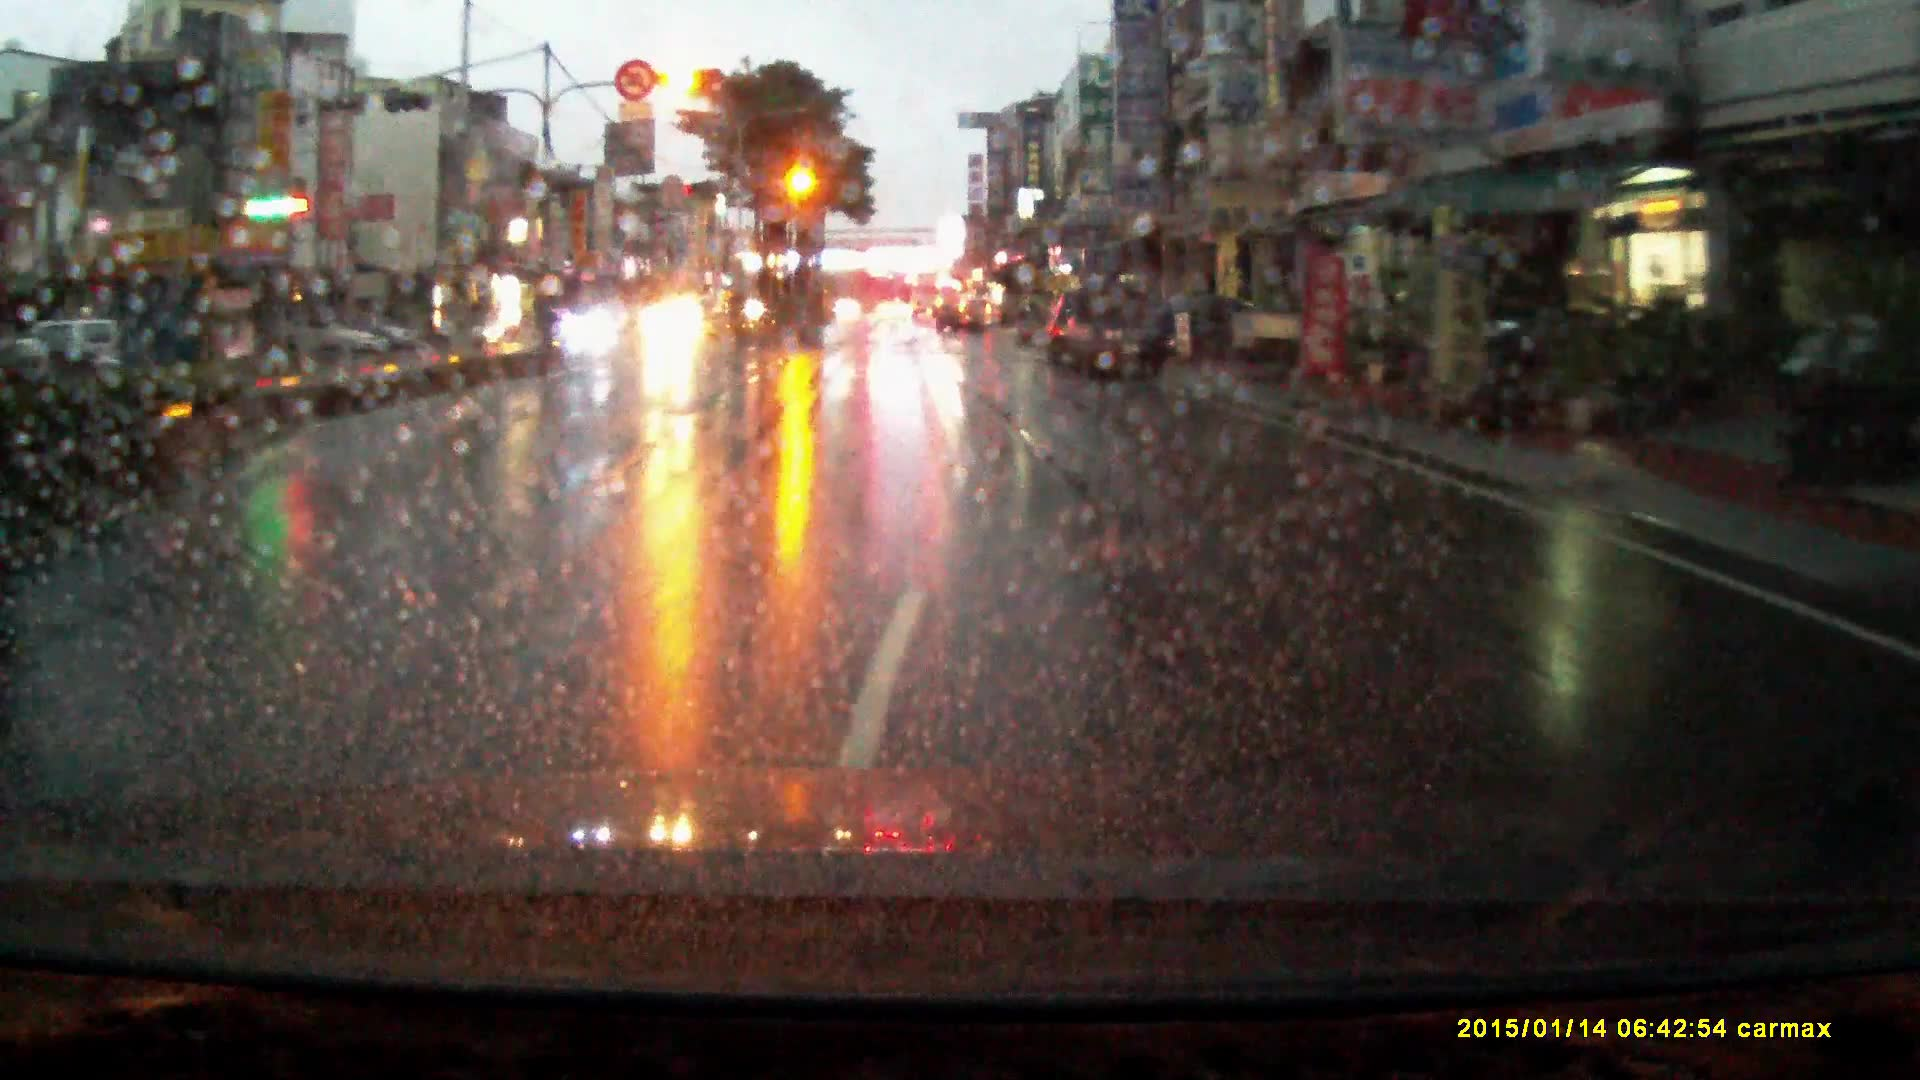vehicle: (1064, 280, 1176, 384), (280, 315, 376, 357), (1229, 311, 1317, 355), (638, 295, 709, 348), (1044, 289, 1079, 368), (564, 305, 625, 348), (938, 291, 996, 334), (447, 311, 506, 348), (357, 320, 419, 353), (911, 272, 944, 316), (877, 301, 913, 322)
